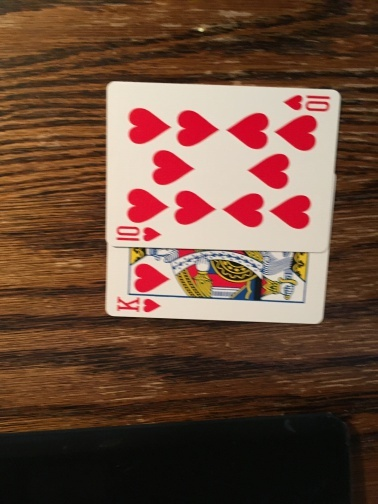king: (105, 246, 327, 323)
ten: (109, 83, 334, 248)
